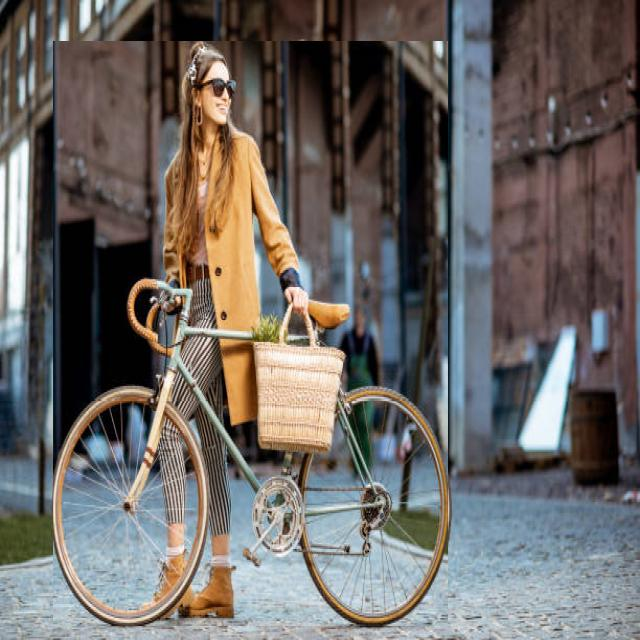bicycle: (54, 42, 448, 626)
